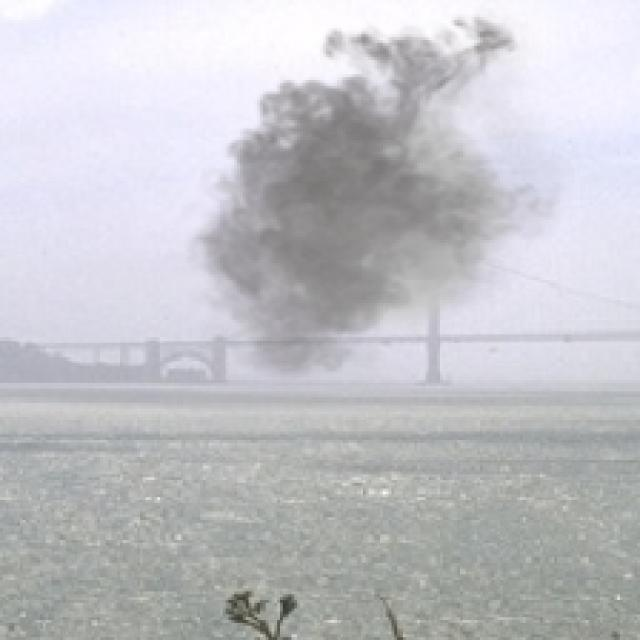smoke: (171, 3, 586, 394)
